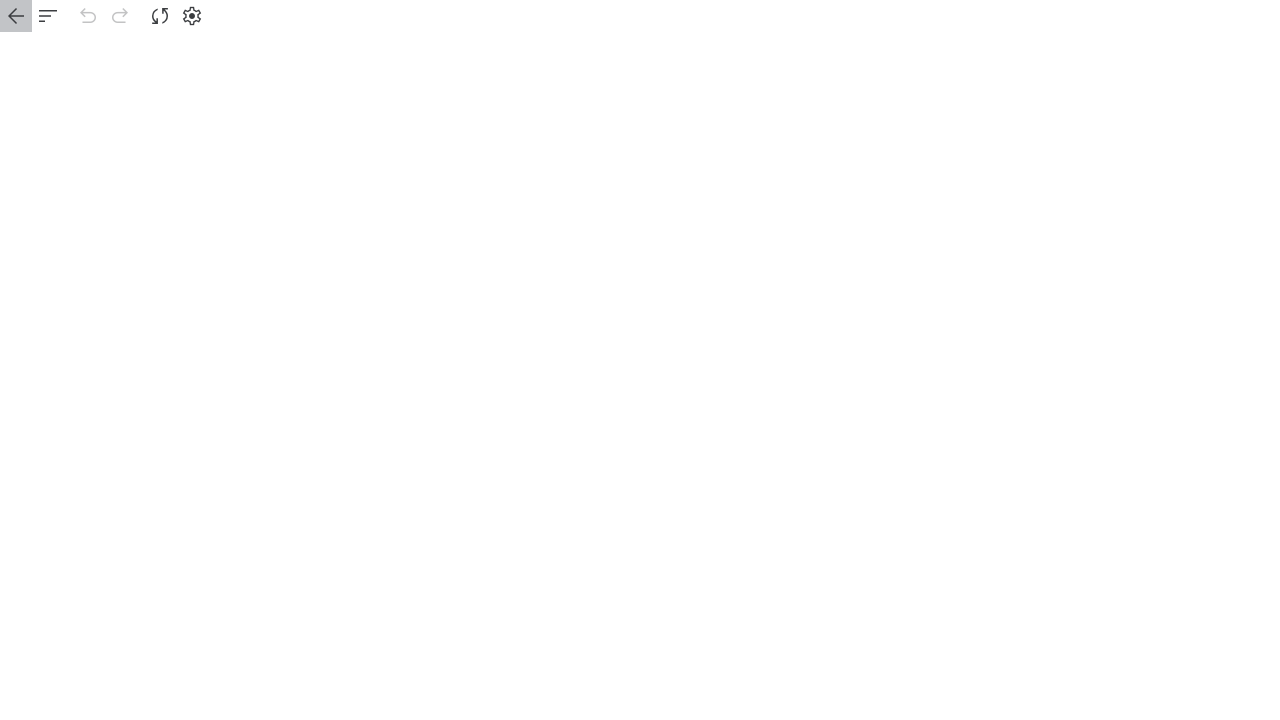
it: Back to your tab, from an unpinned full view (KAN-578) › the first press shows the card and sends nothing; Go back is focused
The width and height of the screenshot is (1280, 720).
Click the button named "Back to your tab". click: (16,16)
box: [0,0,32,32]
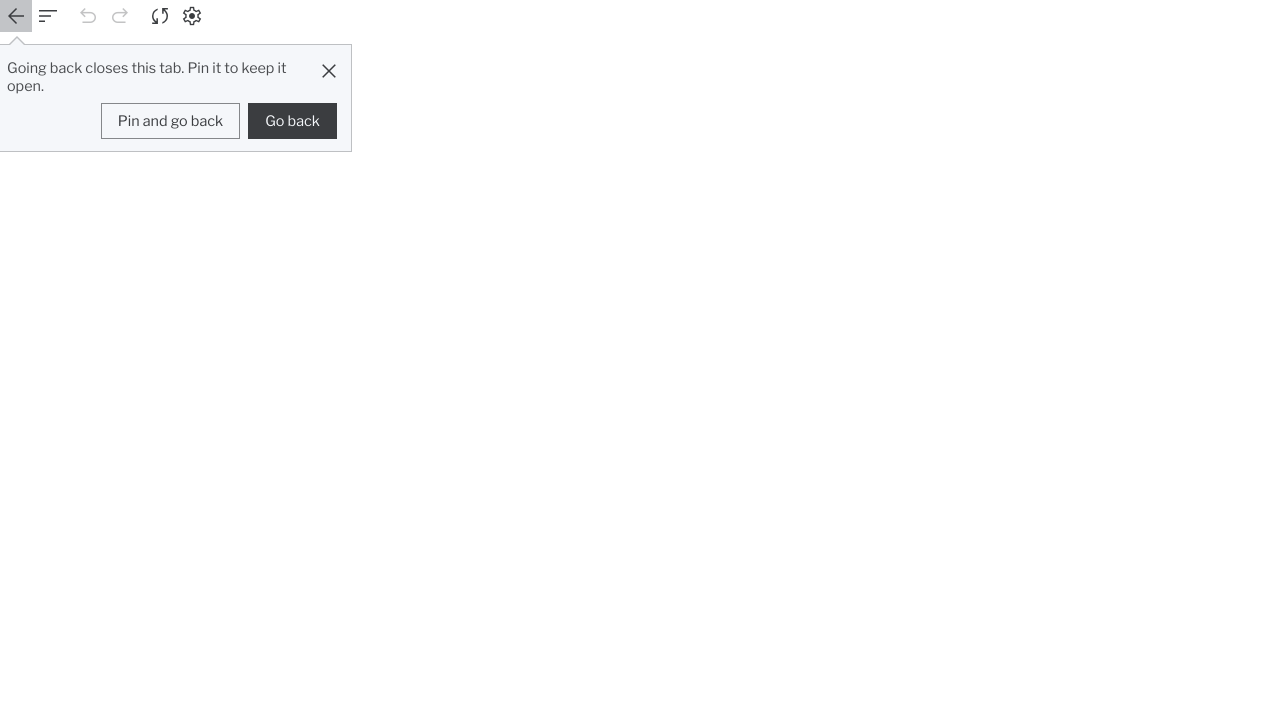
expect the dialog shows "Going back closes this tab. Pin it to keep it open.": met, box [7,59,286,95]
expect the button "Pin and go back" is shown: met, box [101,103,240,139]
